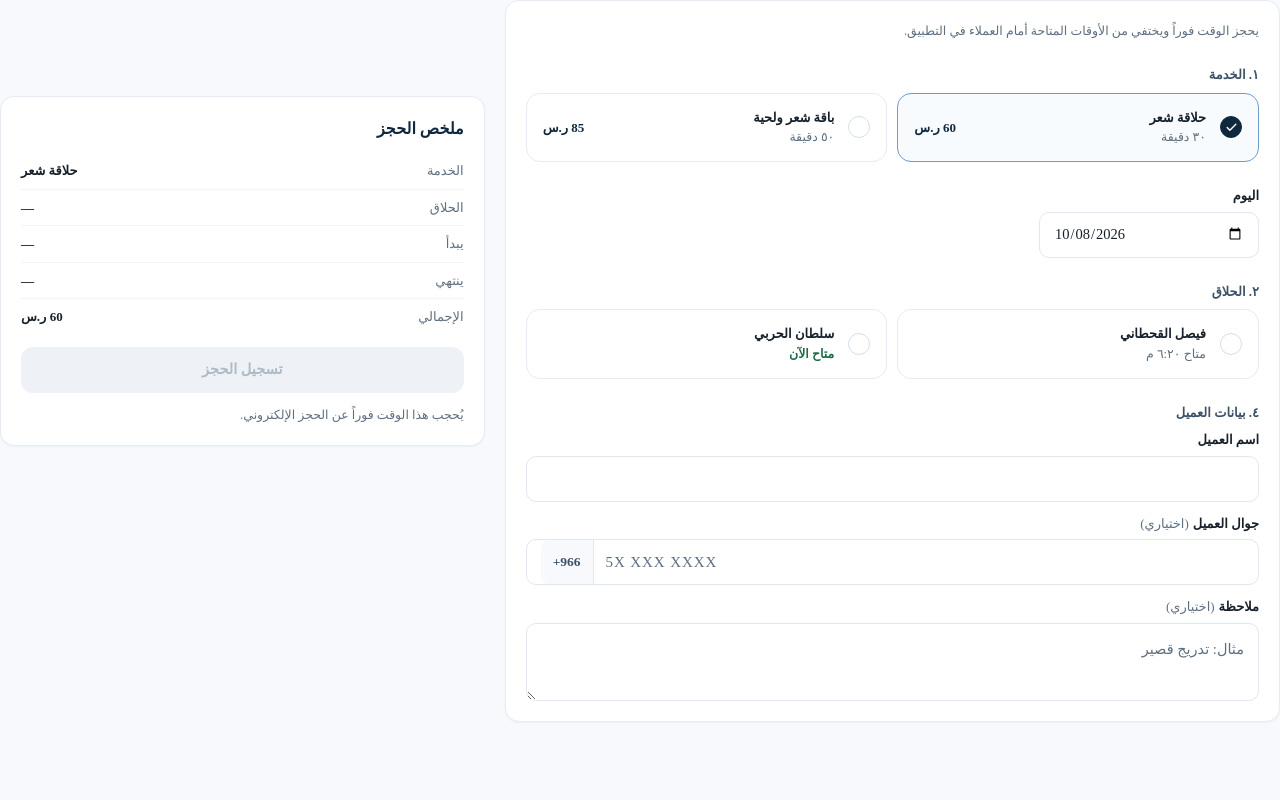
Test case: WalkInFlow (s-walkin, D-035, D-134) › lists a busy professional by their next free time, and a taken time sends the desk back to fresh times
The width and height of the screenshot is (1280, 800).
Click the radio button labelled "فيصل القحطاني متاح ٦:٢٠ م" at (1163, 334), box [897,309,1259,378]
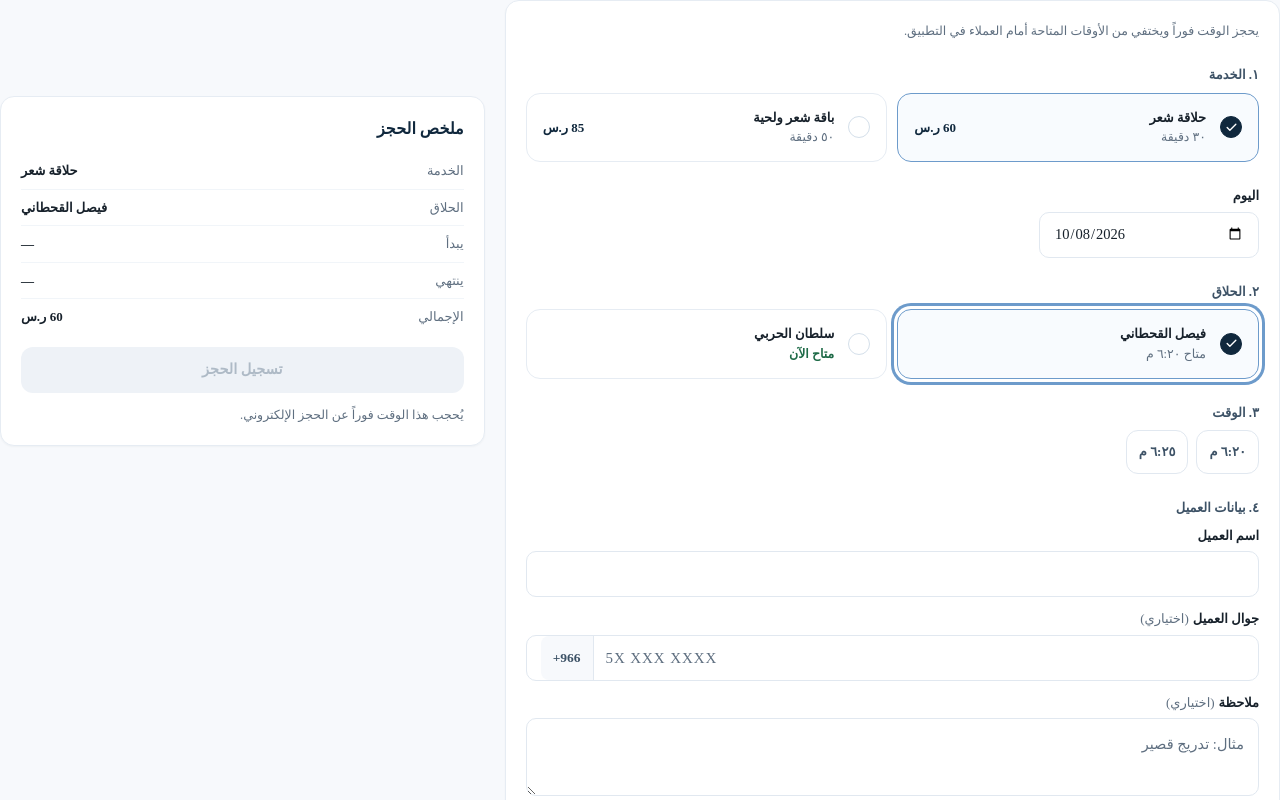
Click the radio button labelled "٦:٢٥ م" at (1157, 452), box [1126,430,1188,474]
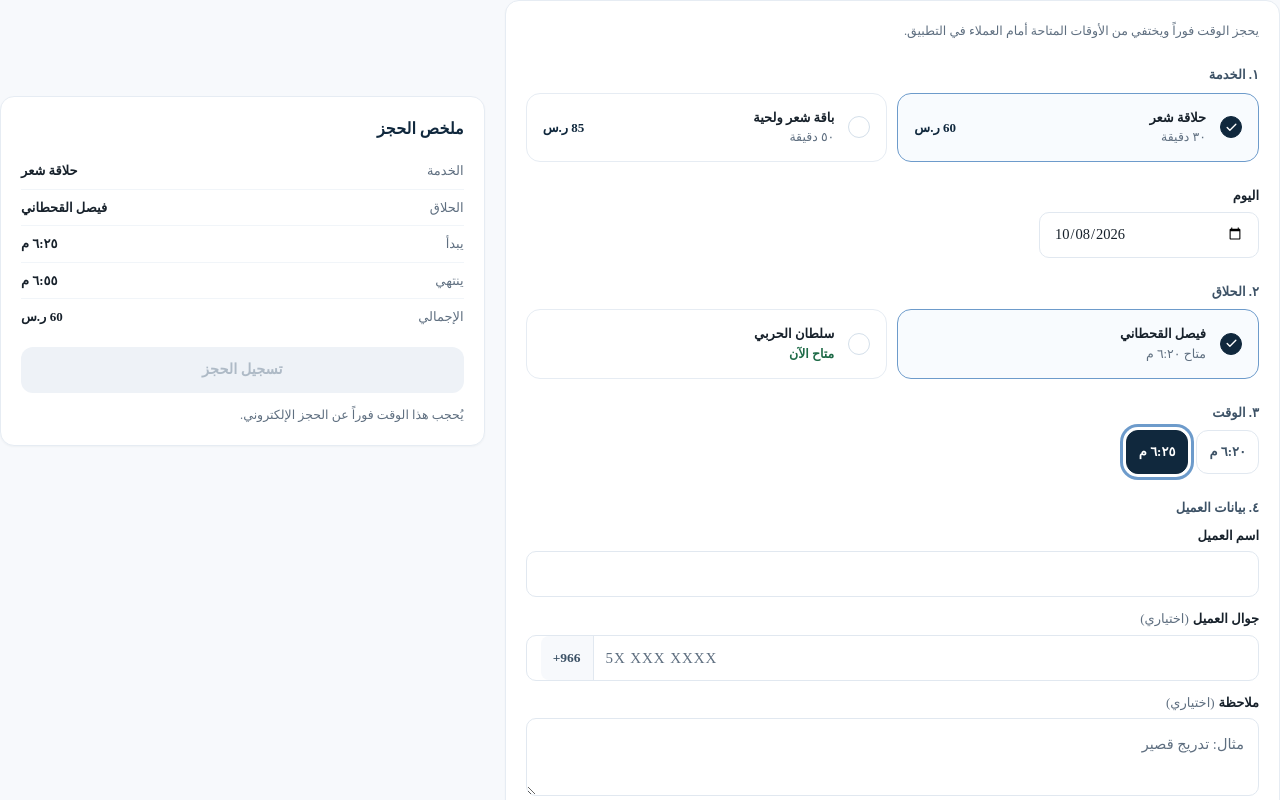
Type "ناصر" into the field labelled "اسم العميل" at (892, 574), box [526,551,1259,597]
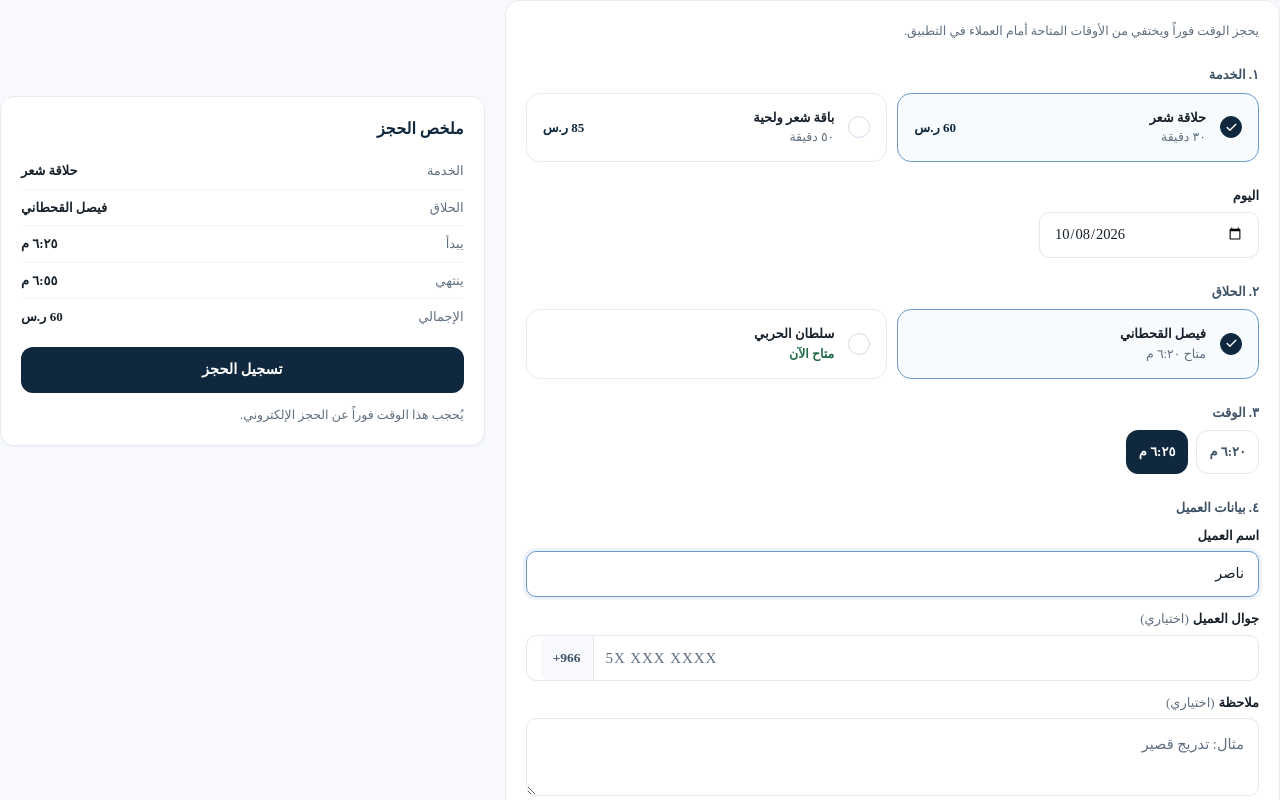
Click the button "تسجيل الحجز" at (242, 370), box [21,346,464,392]
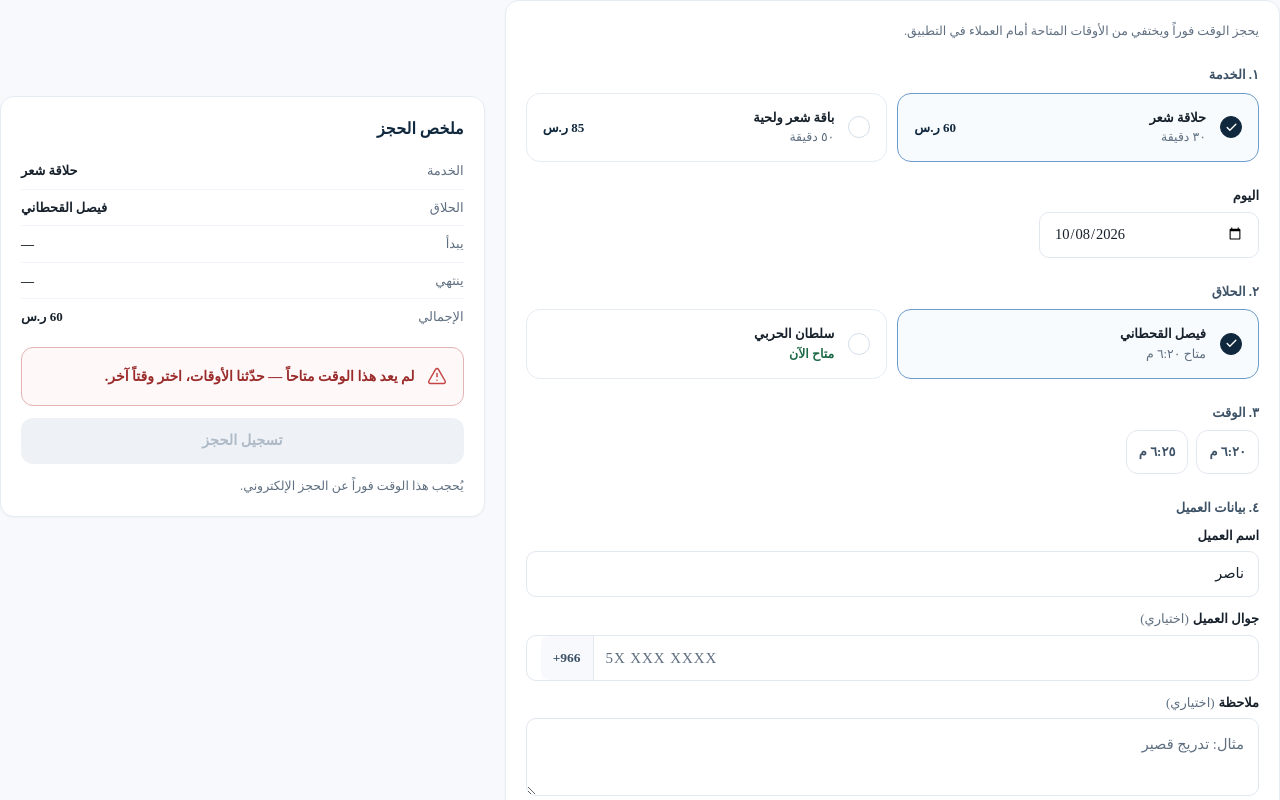
Expected: the message shows "لم يعد هذا الوقت متاحاً", [105,368,415,384]
